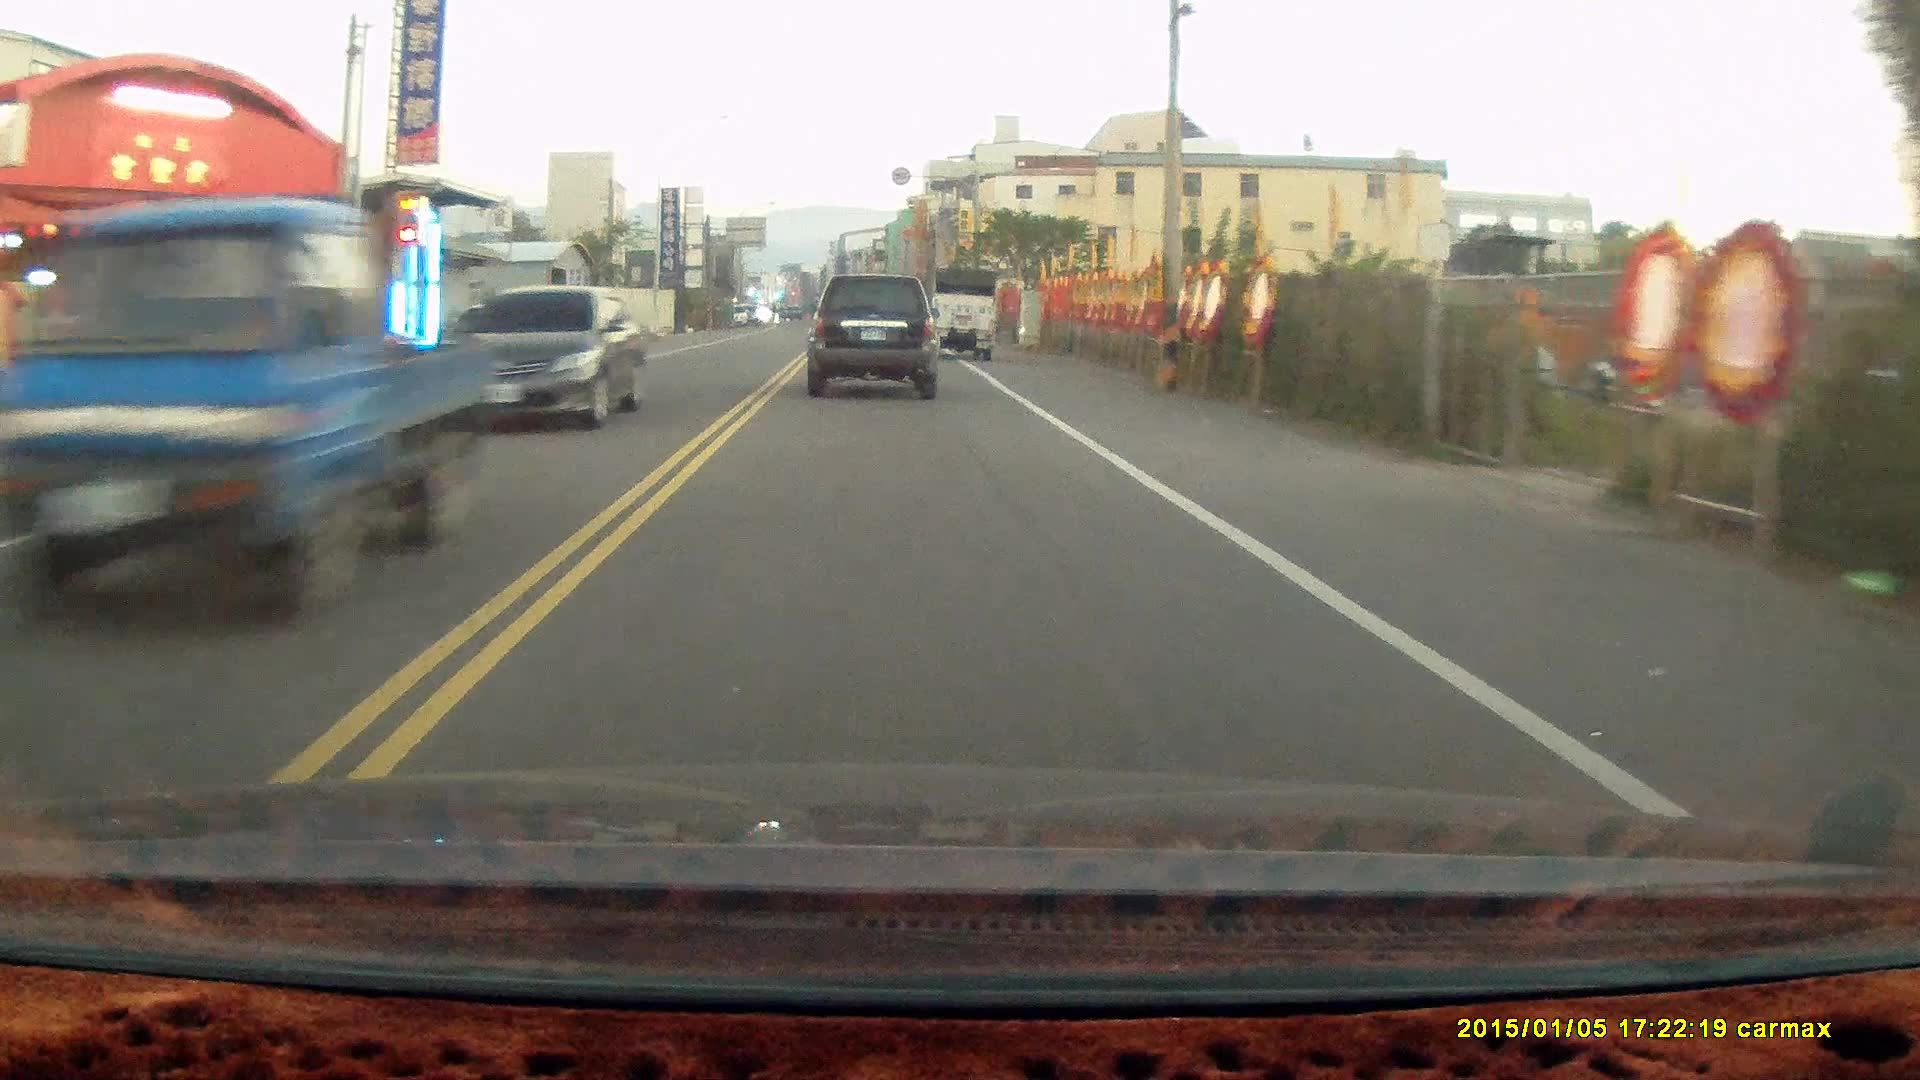vehicle: (41, 193, 476, 640), (451, 282, 647, 433), (803, 270, 939, 400), (928, 262, 1002, 356)
